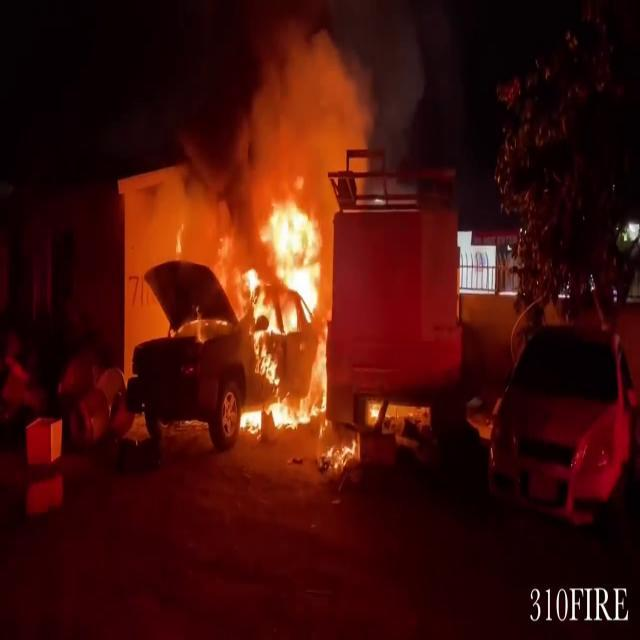Fire: (232, 184, 336, 436), (320, 424, 362, 474)
Smoke: (194, 2, 406, 218)
